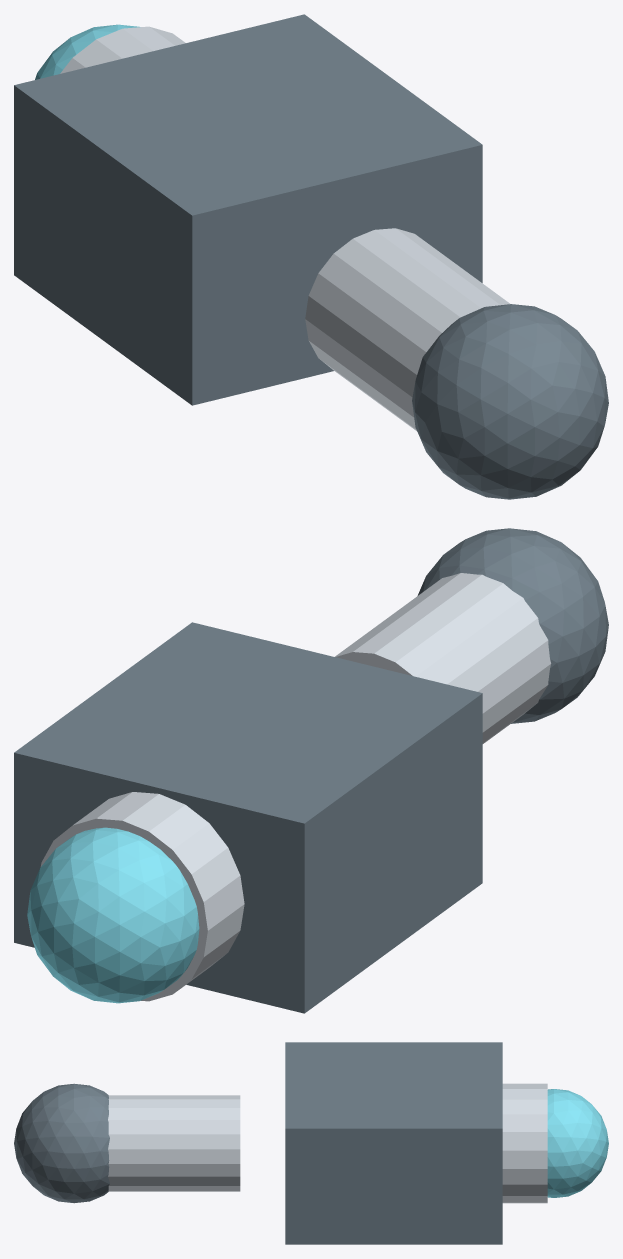
Rendered from servicer_tool_scanner.glb.
The picture shows the model from 3 angles, top to bottom: view 1: azimuth 30°, elevation 25°; view 2: azimuth 150°, elevation 25°; view 3: azimuth 270°, elevation 25°; orthographic projection. The views are drawn at different scales.
Visible parts, largest first — view 1: laser scanning module, scanner swivel, scanner mounting spindle, scan optic barrel, scan sapphire lens; view 2: laser scanning module, scan sapphire lens, scanner mounting spindle, scanner swivel, scan optic barrel; view 3: laser scanning module, scanner mounting spindle, scanner swivel, scan optic barrel, scan sapphire lens.
Part boxes in pixels (box(x1,y1,x2,y2)): laser scanning module: box(14, 14, 482, 405); scanner swivel: box(412, 304, 608, 499); scanner mounting spindle: box(305, 228, 509, 430); scan optic barrel: box(60, 26, 185, 73); scan sapphire lens: box(35, 24, 140, 79); laser scanning module: box(14, 622, 482, 1013); scan sapphire lens: box(27, 827, 199, 1003); scanner mounting spindle: box(335, 573, 551, 743); scanner swivel: box(417, 528, 608, 723); scan optic barrel: box(40, 792, 244, 1001); laser scanning module: box(285, 1042, 502, 1244); scanner mounting spindle: box(108, 1095, 240, 1191); scanner swivel: box(14, 1083, 109, 1203); scan optic barrel: box(502, 1083, 547, 1203); scan sapphire lens: box(547, 1089, 608, 1197).
Size of the model in its own units: 0.16 by 0.1 by 0.465.
